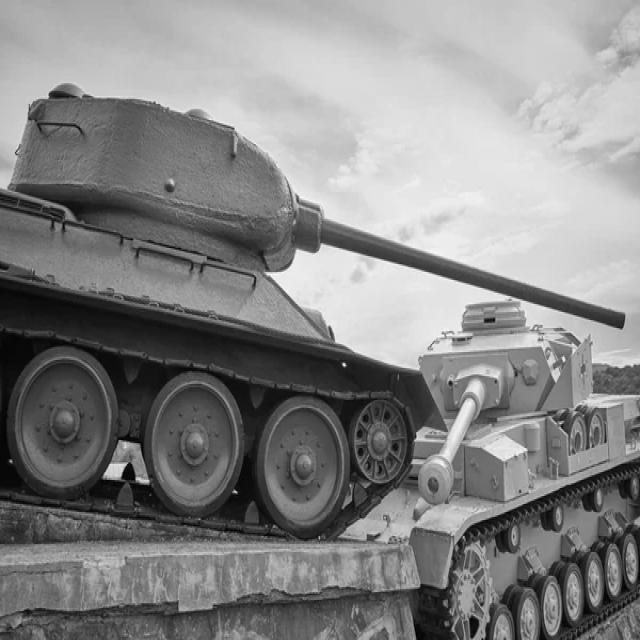Tank: (0, 69, 631, 532), (378, 291, 640, 634)
